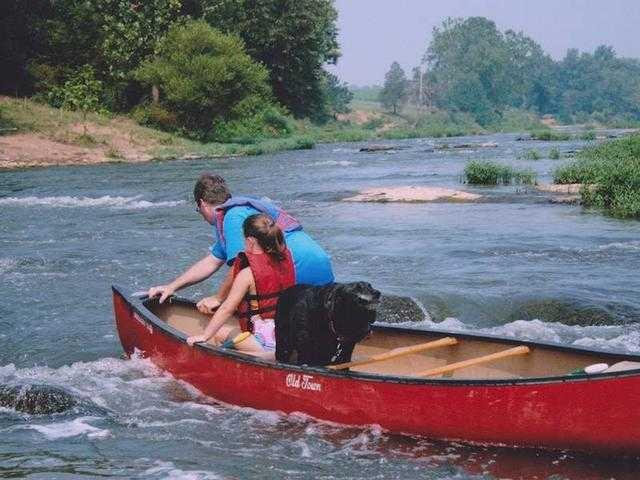kayak: (112, 287, 637, 454)
